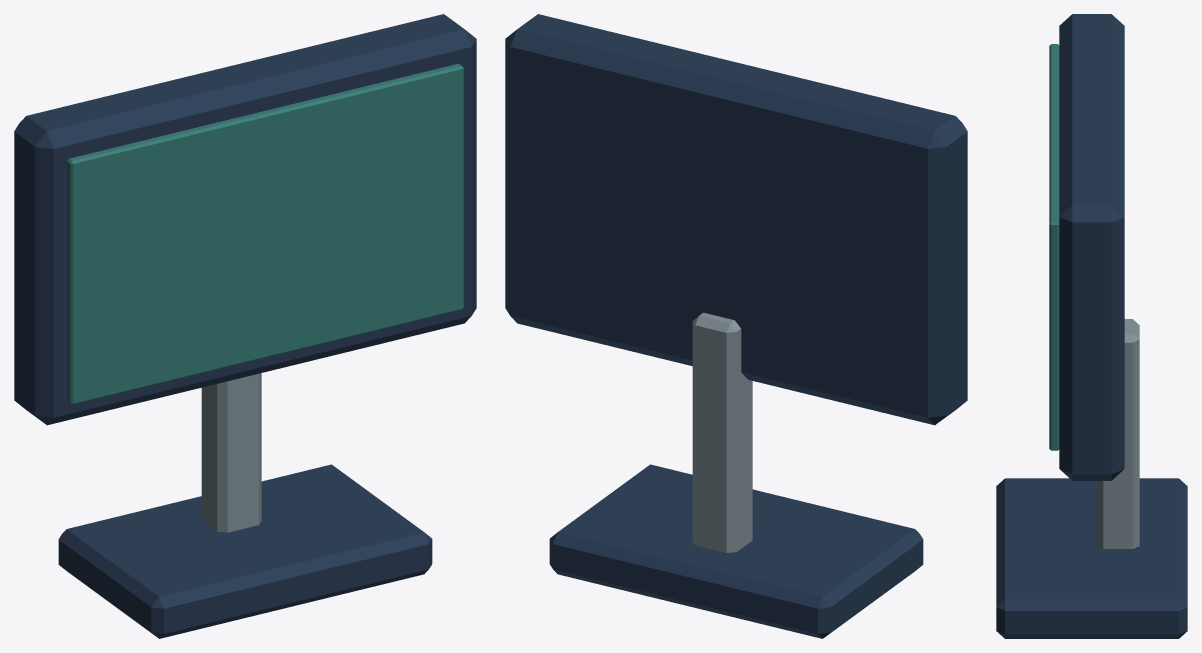
Rendered from Prop_OfficeMonitor.fbx.
3 views of the same model, side by side, from view 1: azimuth 30°, elevation 25°; view 2: azimuth 150°, elevation 25°; view 3: azimuth 270°, elevation 25° (orthographic). The views are drawn at different scales.
Parts seen in each view (by area): view 1: Screen.003, Monitor, Base.003, Stand.001; view 2: Monitor, Base.003, Stand.001; view 3: Monitor, Base.003, Stand.001, Screen.003.
Part boxes in pixels (bbox=[...]): Screen.003: bbox=[67, 63, 463, 404]; Monitor: bbox=[14, 14, 476, 425]; Base.003: bbox=[58, 464, 432, 638]; Stand.001: bbox=[201, 373, 261, 532]; Monitor: bbox=[505, 14, 967, 425]; Base.003: bbox=[549, 464, 923, 638]; Stand.001: bbox=[692, 312, 752, 552]; Monitor: bbox=[1059, 14, 1124, 480]; Base.003: bbox=[996, 478, 1187, 638]; Stand.001: bbox=[1096, 319, 1139, 548]; Screen.003: bbox=[1049, 44, 1059, 450].
Size of the model in its own units: 0.55 by 0.595 by 0.22.
